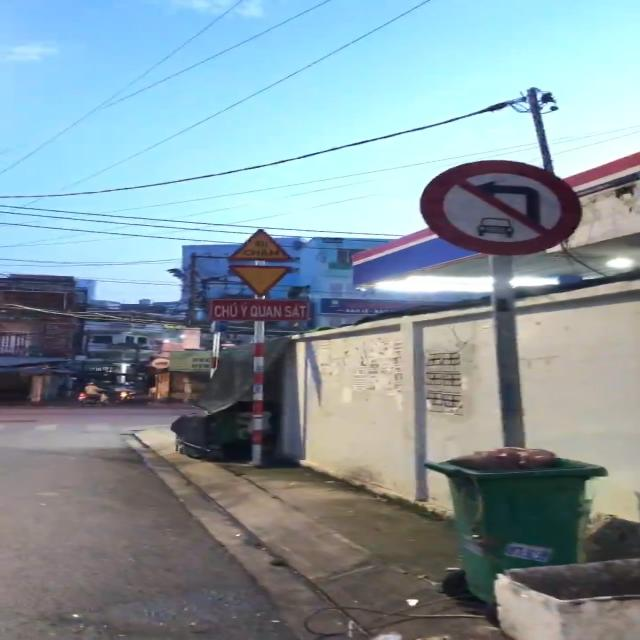Bien bao di cham: (218, 225, 294, 261)
Bien bao giao nhau voi duong uu tien: (226, 260, 303, 298)
